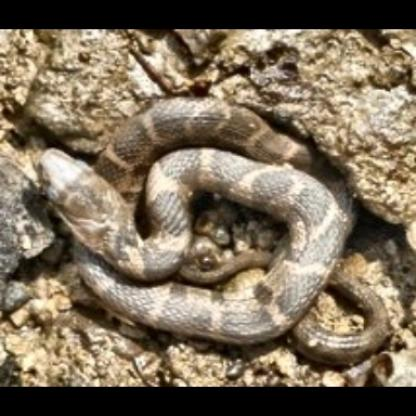Snake: (33, 89, 356, 347)
